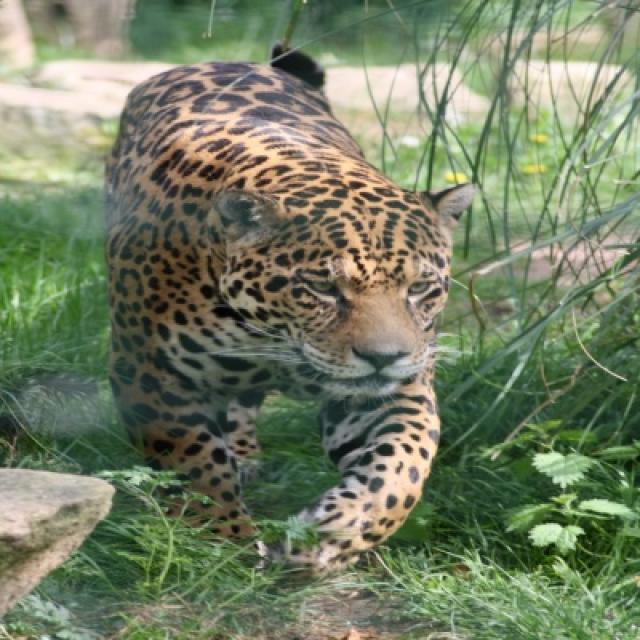Jaguar: (102, 48, 478, 576)
